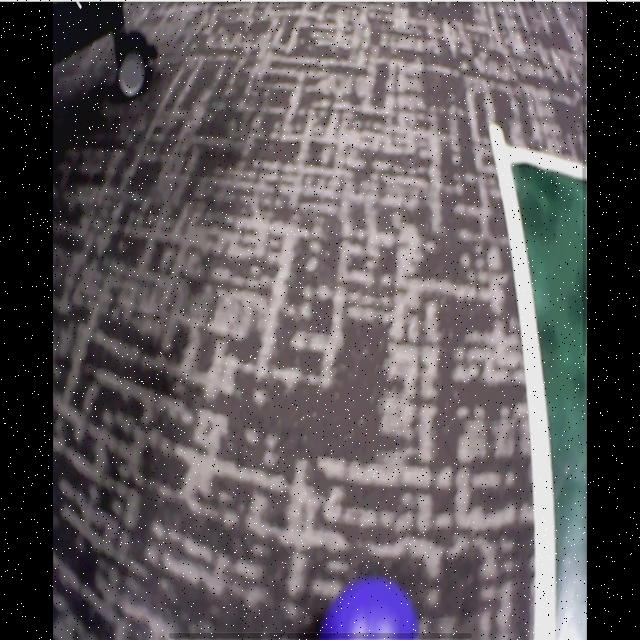ball: (323, 582, 422, 640)
